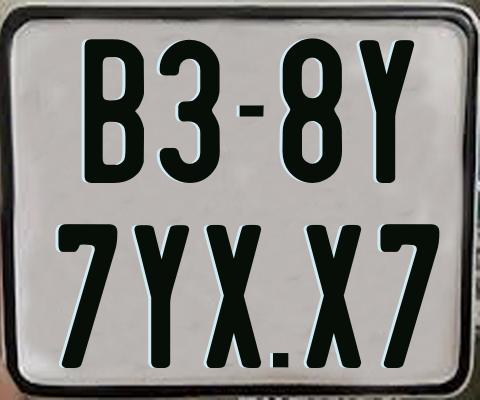3: (159, 39, 220, 182)
7: (57, 224, 123, 374), (378, 222, 444, 369)
8: (281, 37, 341, 182)
B: (83, 37, 142, 186)
X: (206, 223, 265, 366), (303, 224, 360, 370)
Y: (358, 40, 418, 188), (134, 223, 191, 367)
